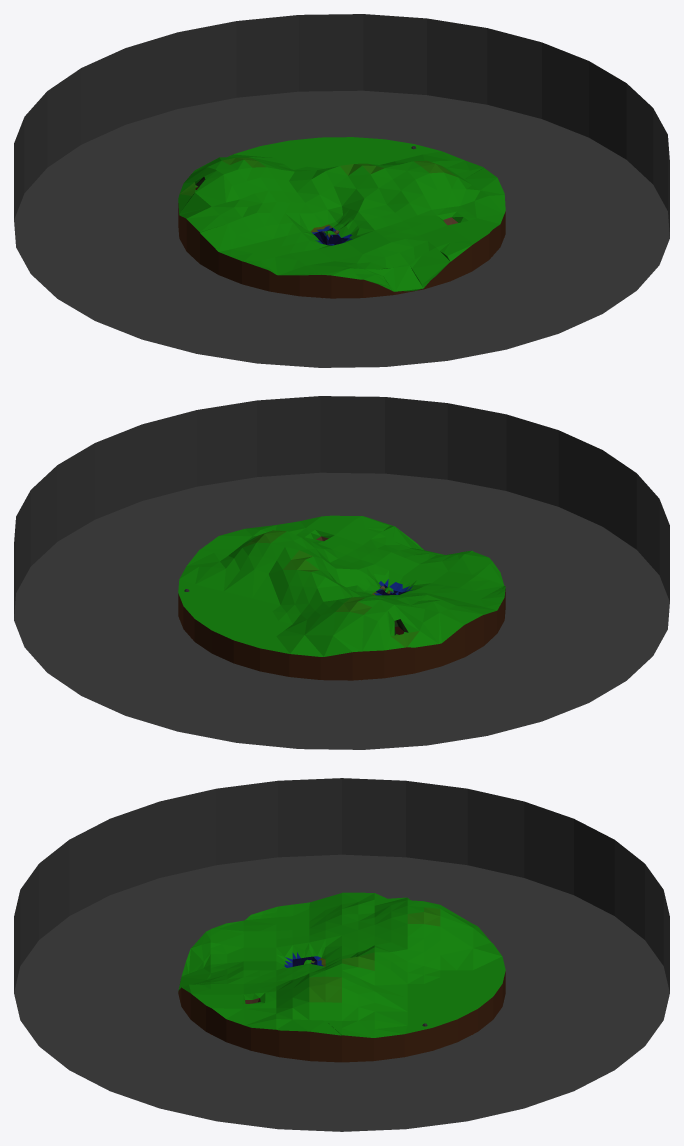
Rendered from DiscWorld11base.obj.
The picture shows the model from 3 angles, top to bottom: view 1: azimuth 30°, elevation 25°; view 2: azimuth 150°, elevation 25°; view 3: azimuth 270°, elevation 25°; orthographic projection.
Parts seen in each view (by area): view 1: BaseCircles, BorderWall; view 2: BaseCircles, BorderWall; view 3: BaseCircles, BorderWall.
Boxes of the visible parts, x1,y1,x2,y2 form: BaseCircles: [14, 90, 669, 367]; BorderWall: [14, 14, 669, 235]; BaseCircles: [14, 472, 669, 749]; BorderWall: [14, 396, 669, 617]; BaseCircles: [14, 854, 669, 1131]; BorderWall: [14, 778, 669, 992].
Size of the model in its own units: 200 by 25.76 by 200.
